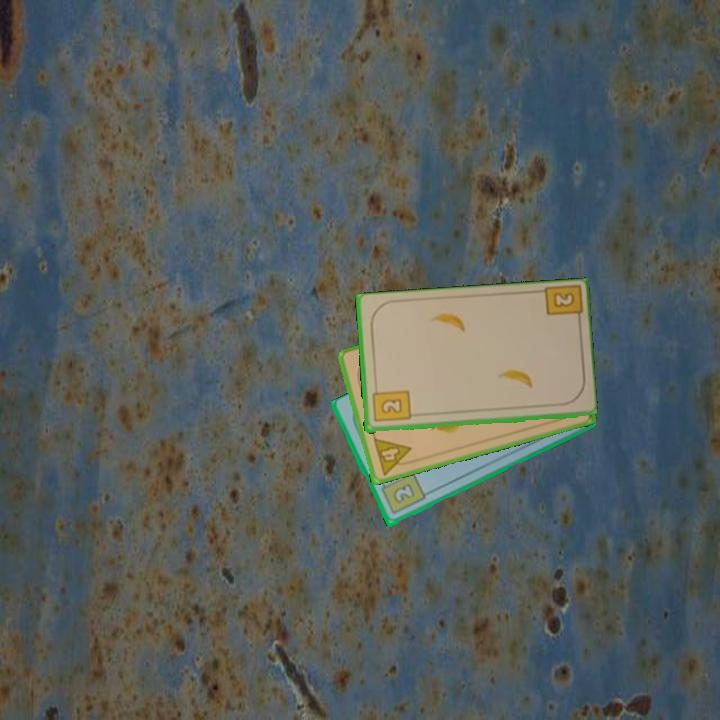2b: (377, 470, 428, 517), (539, 283, 583, 328), (369, 383, 413, 425)
4p: (370, 434, 417, 478)
